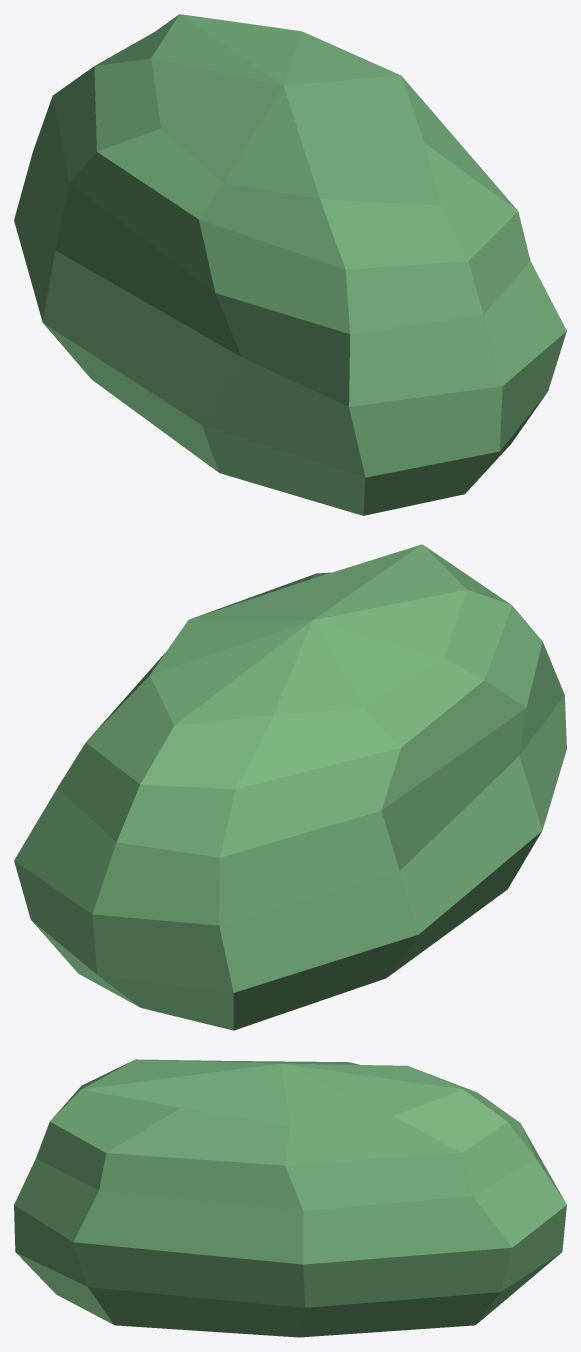
Rendered from Bush.fbx.
3 views of the same model, one above another, from view 1: azimuth 30°, elevation 25°; view 2: azimuth 150°, elevation 25°; view 3: azimuth 270°, elevation 25° (orthographic). The views are drawn at different scales.
Visible parts, largest first — view 1: pSphere1; view 2: pSphere1; view 3: pSphere1.
Boxes of the visible parts, <box> form: pSphere1: <box>14,14,566,515</box>; pSphere1: <box>14,544,566,1030</box>; pSphere1: <box>14,1059,566,1337</box>.
Size of the model in its own units: 13.19 by 10.04 by 22.74.
